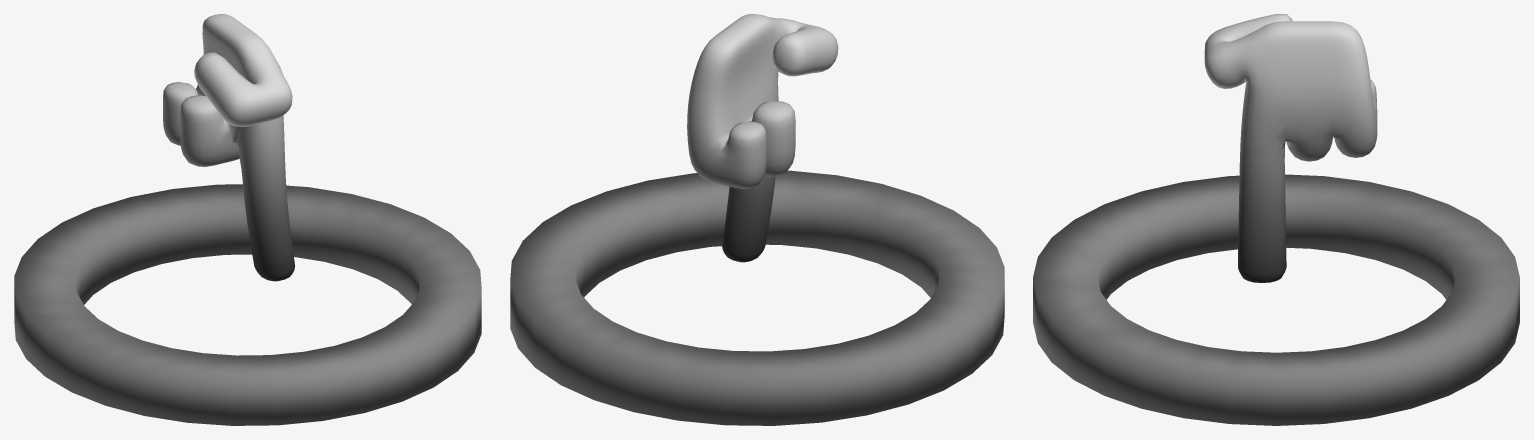
The model's file is SPOT2.dae.
3 renders of one model, left to right at view 1: azimuth 30°, elevation 25°; view 2: azimuth 150°, elevation 25°; view 3: azimuth 270°, elevation 25°, orthographic. The views are drawn at different scales.
Visible parts, largest first — view 1: Circle_002; view 2: Circle_002; view 3: Circle_002.
Boxes of the visible parts, box(x1,y1,x2,y2) form: Circle_002: box(14, 14, 481, 425); Circle_002: box(510, 14, 1004, 425); Circle_002: box(1033, 14, 1519, 425).
Bounding box in the file's own units: 19.11 × 19.11 × 13.02.
Materials: 1 (1 with a texture image).
